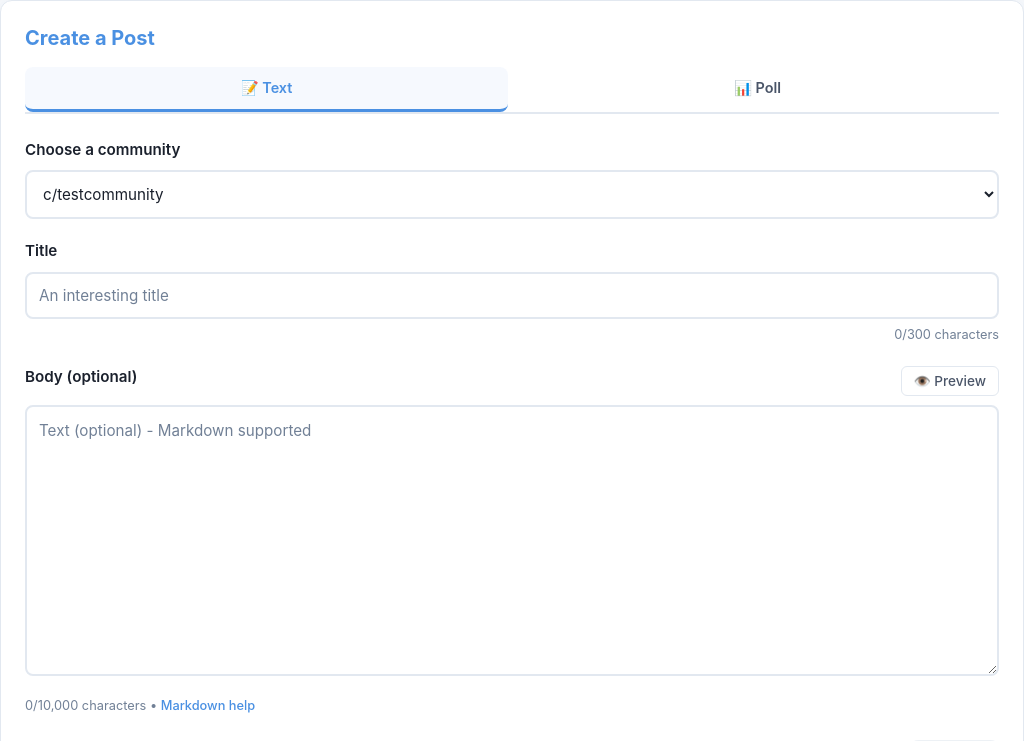
Test: CreatePostForm Component › should toggle between edit and preview mode
Expected: the text box labelled "Body (optional)" is shown, [25,405,999,676]
# Click preview
Click the button "👁️ Preview". click: (950, 381)
box: [901,366,999,396]
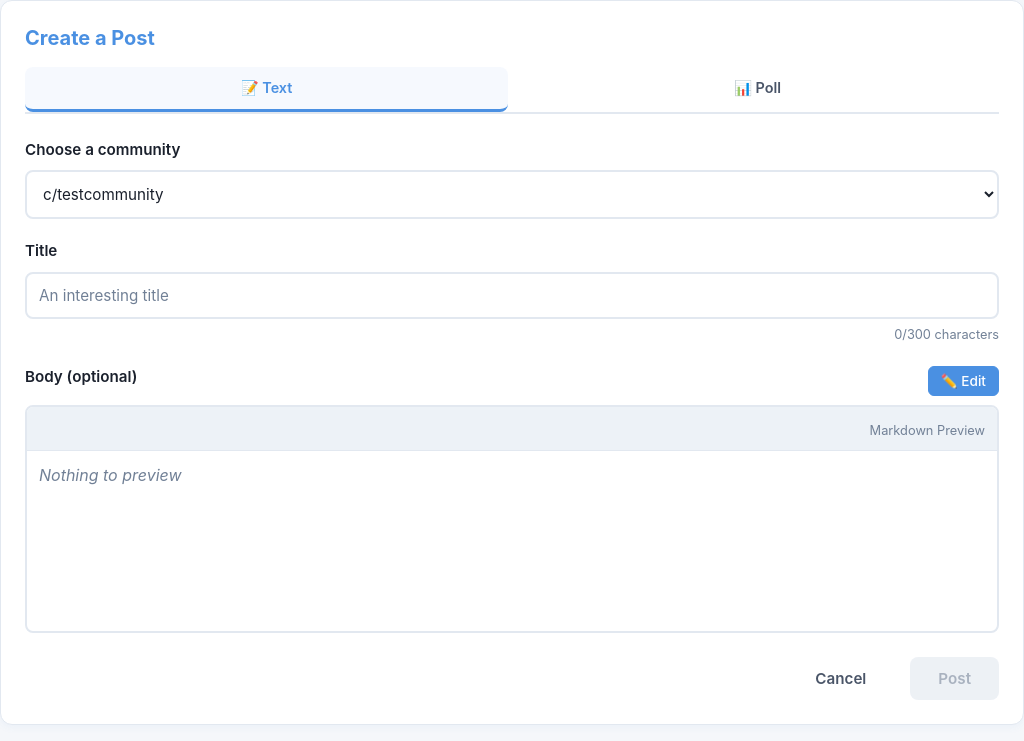
Expected: the text "Markdown Preview" is shown, [870,423,985,438]
Expected: the button "✏️ Edit" is shown
# Click edit
Click the button "✏️ Edit". click: (963, 381)
box: [928,366,999,396]
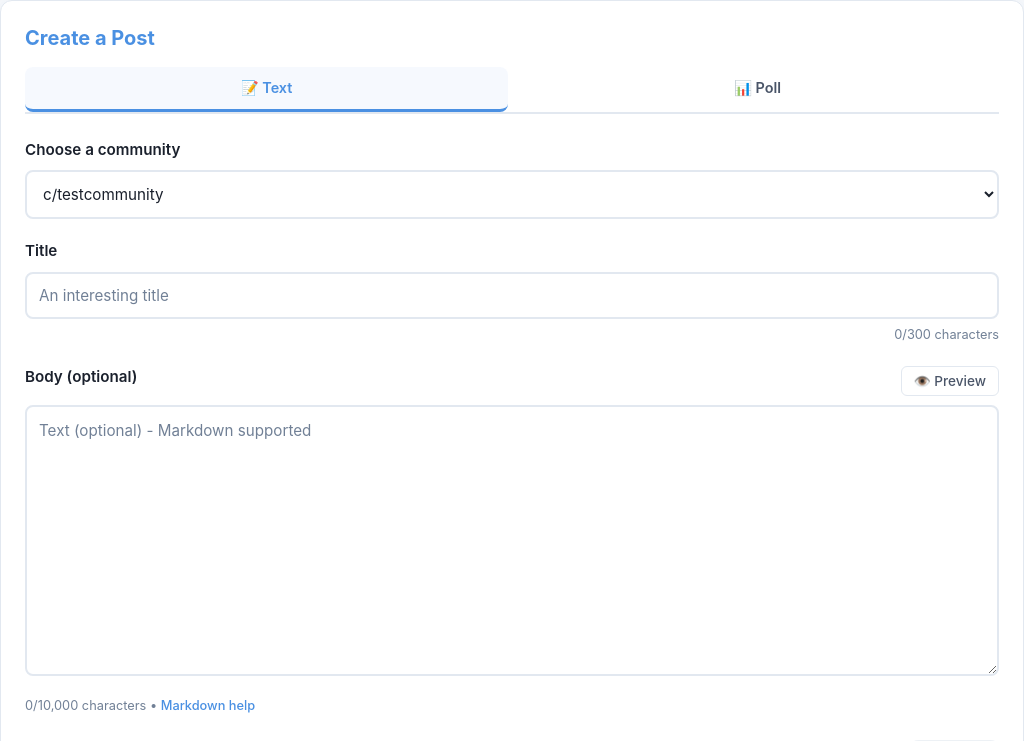
Expected: the text box labelled "Body (optional)" is shown, [25,405,999,676]
